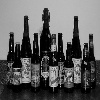beer: (20, 14, 33, 86)
